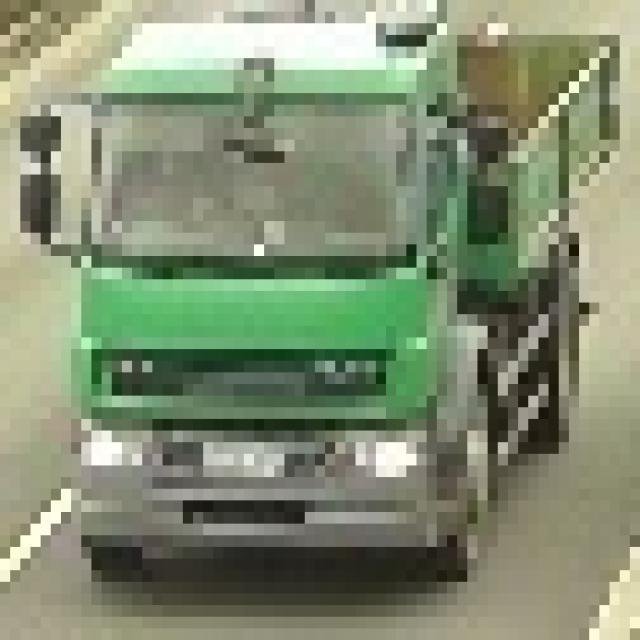truck: (10, 0, 610, 582)
